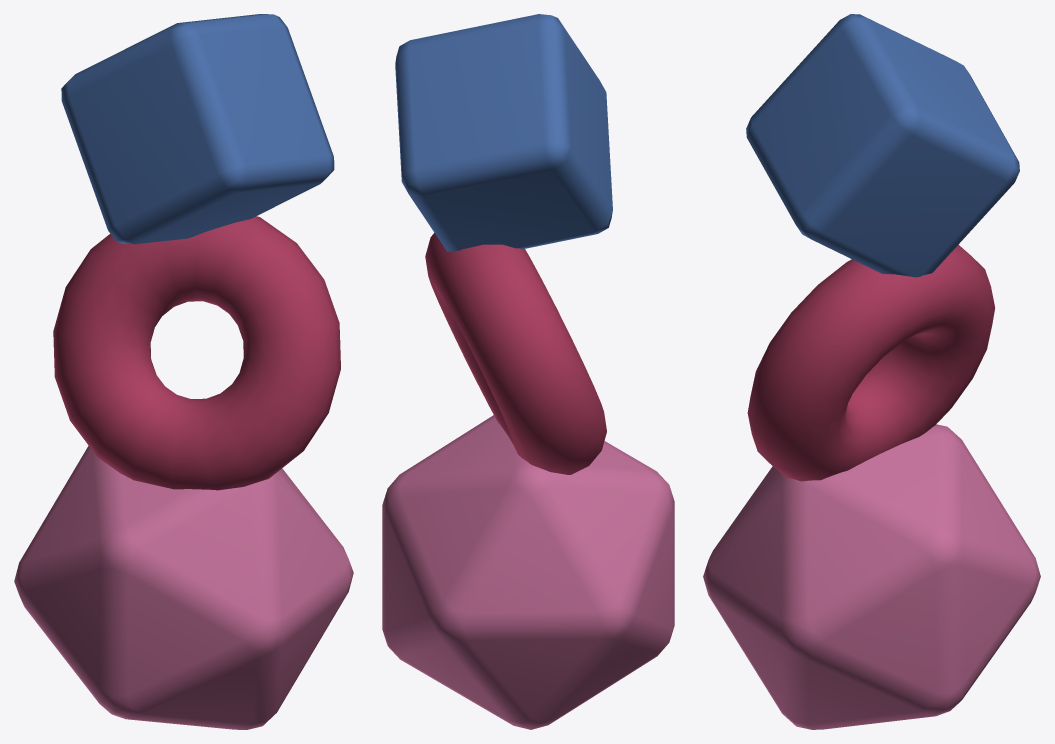
The model's file is SM_ShortTrippyTreeA3.fbx.
3 renders of one model, left to right at view 1: azimuth 30°, elevation 25°; view 2: azimuth 150°, elevation 25°; view 3: azimuth 270°, elevation 25°, orthographic. The views are drawn at different scales.
Visible parts, largest first — view 1: shapes; view 2: shapes; view 3: shapes.
Boxes of the visible parts, x1,y1,x2,y2 form: shapes: (14,14,353,729); shapes: (382,14,674,729); shapes: (703,14,1040,729).
Bounding box in the file's own units: 712 × 1765 × 782.
